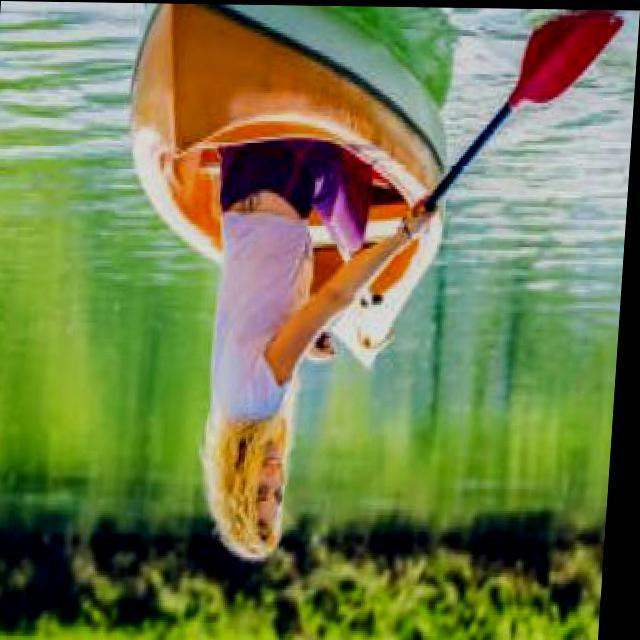kayak: (131, 2, 445, 370)
